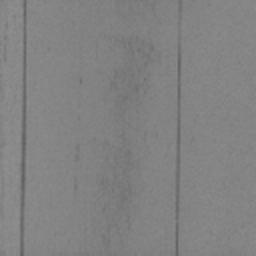Scratches: (18, 0, 29, 256), (174, 0, 182, 256)
